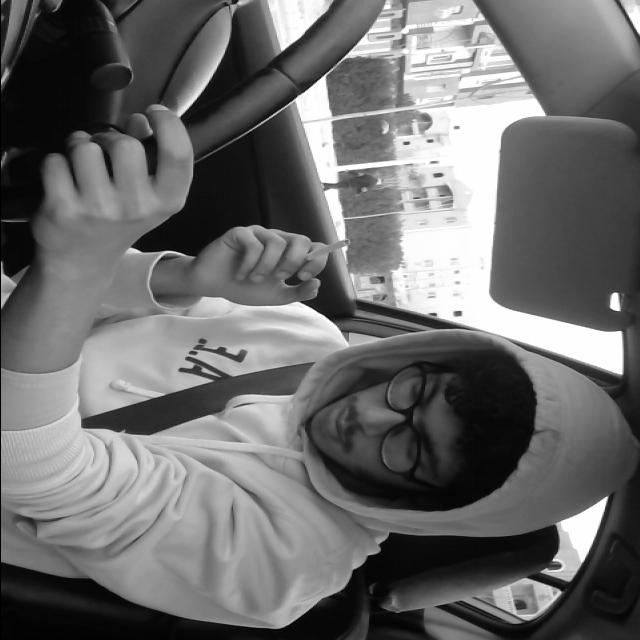smoking: (290, 234, 352, 266)
